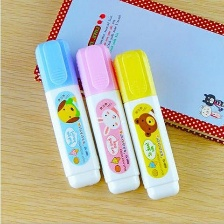correction_fluid: (73, 39, 146, 195), (33, 36, 105, 191), (111, 44, 182, 201)
